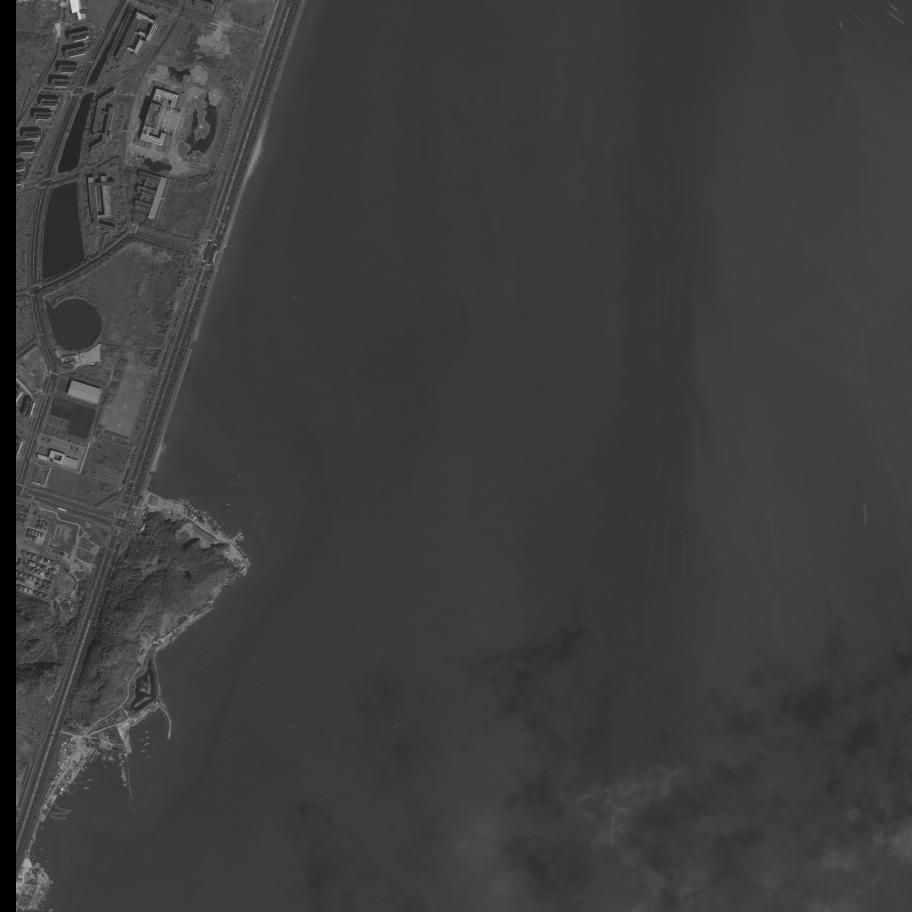ship: (66, 788, 71, 794), (185, 501, 191, 506), (65, 790, 70, 795), (120, 775, 126, 779), (86, 779, 93, 782), (144, 742, 149, 746), (145, 735, 150, 739), (213, 521, 217, 526), (73, 782, 77, 787), (81, 768, 86, 772), (83, 787, 89, 790), (145, 755, 151, 758), (195, 509, 199, 513), (190, 506, 194, 510), (212, 519, 216, 523), (140, 738, 144, 742), (81, 769, 85, 773), (140, 750, 145, 753), (123, 780, 127, 783), (122, 778, 126, 781), (193, 510, 197, 513), (215, 523, 218, 527), (200, 511, 203, 515), (204, 511, 207, 515), (208, 516, 211, 520), (193, 508, 196, 512), (120, 760, 124, 763), (120, 771, 124, 774), (118, 763, 124, 765), (119, 757, 123, 760), (120, 775, 125, 777), (120, 774, 125, 776), (117, 754, 122, 756), (218, 525, 221, 528), (218, 526, 221, 529), (209, 517, 212, 520), (189, 505, 192, 508), (122, 761, 125, 764), (123, 785, 127, 787), (104, 766, 108, 768), (122, 784, 126, 786), (122, 777, 126, 779), (121, 772, 125, 774), (202, 510, 204, 514), (206, 511, 208, 515), (121, 770, 125, 772), (121, 769, 125, 771), (120, 761, 124, 763), (117, 757, 121, 759), (203, 511, 205, 514), (118, 755, 121, 757), (124, 779, 126, 781), (118, 753, 122, 754)
